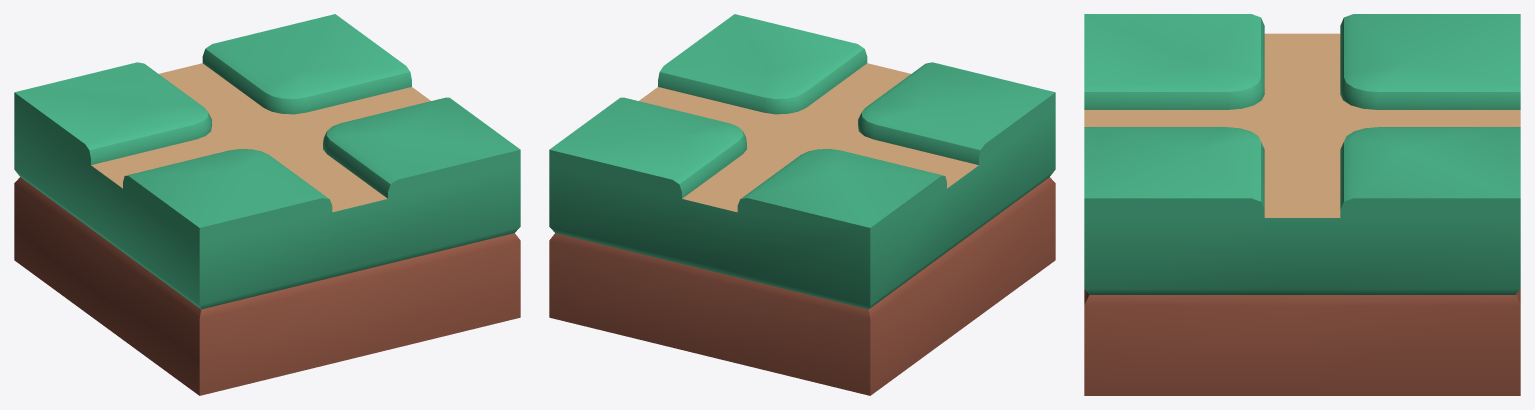
File: kaykit-square-forest-roade-detail.glb
3 renders of one model, left to right at view 1: azimuth 30°, elevation 25°; view 2: azimuth 150°, elevation 25°; view 3: azimuth 270°, elevation 25°, orthographic. The views are drawn at different scales.
Parts seen in each view (by area): view 1: square_forest_roadE_detail; view 2: square_forest_roadE_detail; view 3: square_forest_roadE_detail.
Boxes of the visible parts, x1=… form: square_forest_roadE_detail: x1=14, y1=14, x2=520, y2=395; square_forest_roadE_detail: x1=549, y1=14, x2=1055, y2=395; square_forest_roadE_detail: x1=1084, y1=14, x2=1520, y2=395.
Size of the model in its own units: 2 by 0.9998 by 2.
